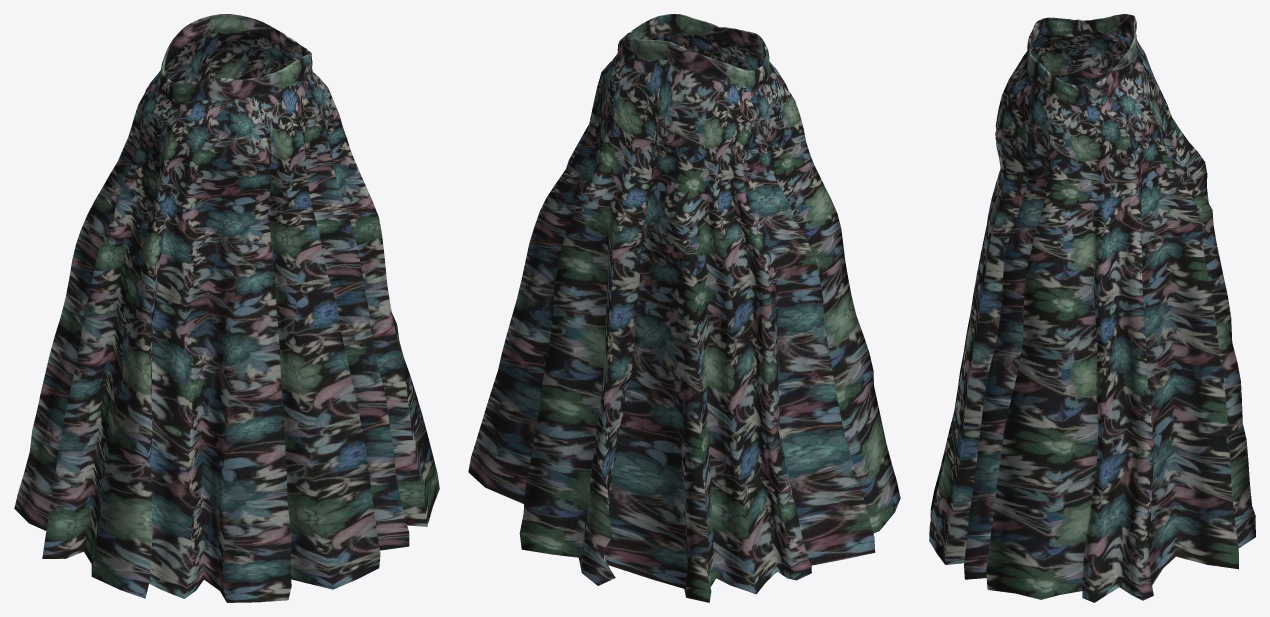
File: toigo-long-full-skirt.glb
3 views of the same model, side by side, from view 1: azimuth 30°, elevation 25°; view 2: azimuth 150°, elevation 25°; view 3: azimuth 270°, elevation 25° (orthographic).
Parts seen in each view (by area): view 1: Human.toigo_long_full_skirt; view 2: Human.toigo_long_full_skirt; view 3: Human.toigo_long_full_skirt.
Boxes of the visible parts, x1,y1,x2,y2 form: Human.toigo_long_full_skirt: [14, 14, 439, 602]; Human.toigo_long_full_skirt: [468, 14, 900, 602]; Human.toigo_long_full_skirt: [929, 14, 1255, 602].
Size of the model in its own units: 0.8435 by 1.08 by 0.6168.
1 material, 1 textured.
